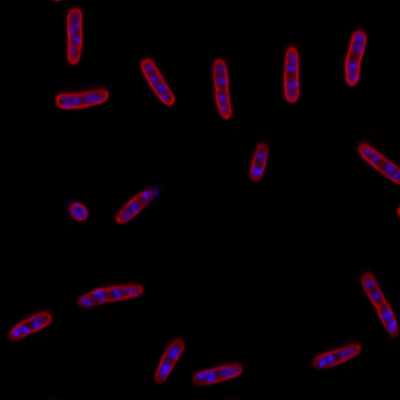Control: (359, 270, 400, 338), (75, 281, 146, 309), (139, 57, 176, 107), (151, 338, 185, 385), (310, 340, 361, 371), (344, 27, 370, 87), (211, 57, 235, 122), (8, 309, 53, 342), (190, 360, 244, 387), (52, 87, 110, 108), (63, 7, 83, 67), (282, 46, 300, 103)
Oblique: (114, 181, 163, 225), (247, 142, 270, 183), (65, 201, 88, 222)
